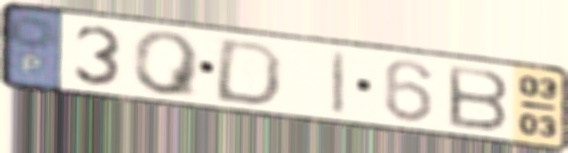3: (71, 23, 125, 88)
6: (379, 57, 437, 125)
B: (444, 62, 513, 133)
D: (209, 36, 287, 108)
I: (328, 47, 349, 119)
Q: (129, 29, 206, 100)
